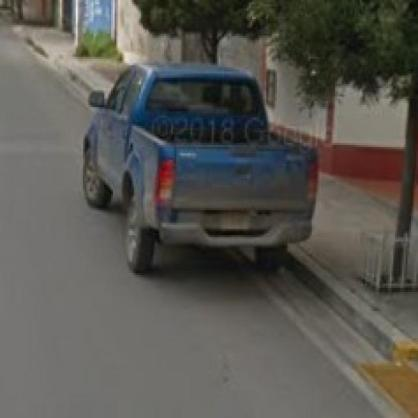car: (78, 59, 321, 279)
